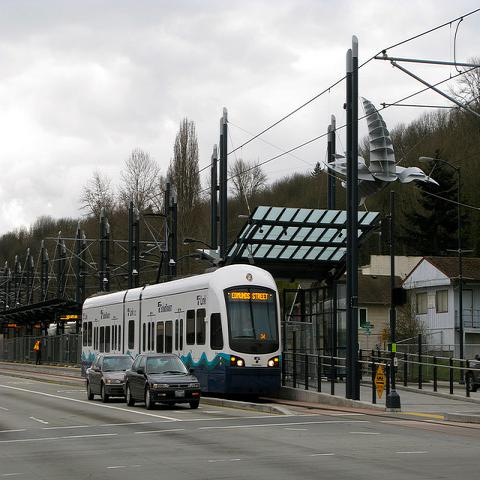bus: (80, 262, 283, 394)
car: (122, 352, 201, 410), (86, 352, 134, 404), (465, 362, 480, 392)
